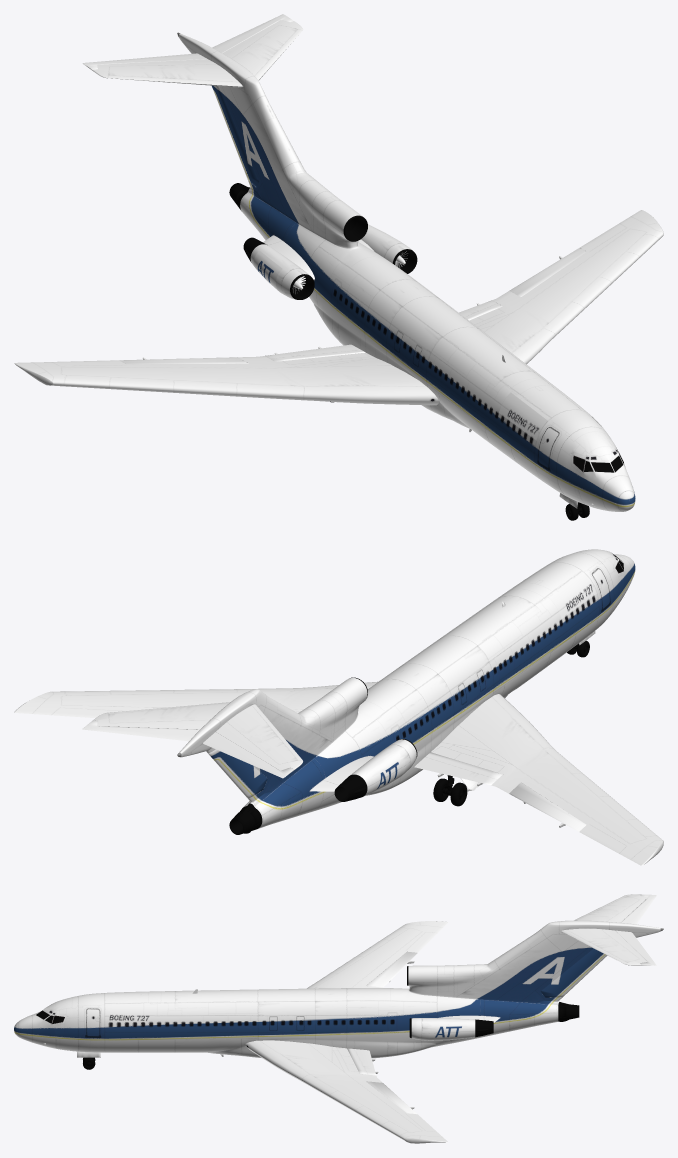
File: Private 727.glb
3 views of the same model, one above another, from view 1: azimuth 30°, elevation 25°; view 2: azimuth 150°, elevation 25°; view 3: azimuth 270°, elevation 25° (orthographic). The views are drawn at different scales.
Parts seen in each view (by area): view 1: Object_8; view 2: Object_8; view 3: Object_8.
Boxes of the visible parts, box(x1,y1,x2,y2) form: Object_8: box(14, 14, 663, 520); Object_8: box(14, 549, 663, 865); Object_8: box(14, 894, 663, 1143).
Bounding box in the file's own units: 26.67 × 8.27 × 33.22.
Materials: 8 (1 with a texture image).
